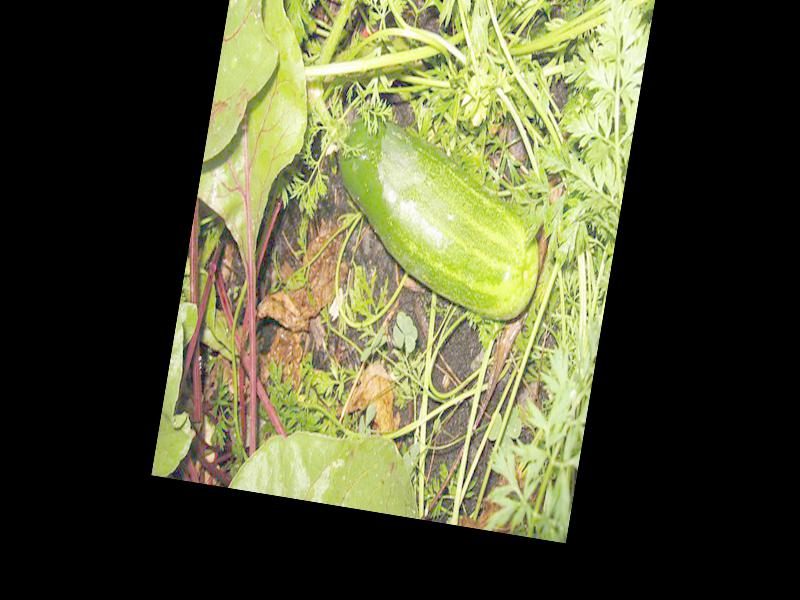Cucumber: (315, 105, 556, 326)
